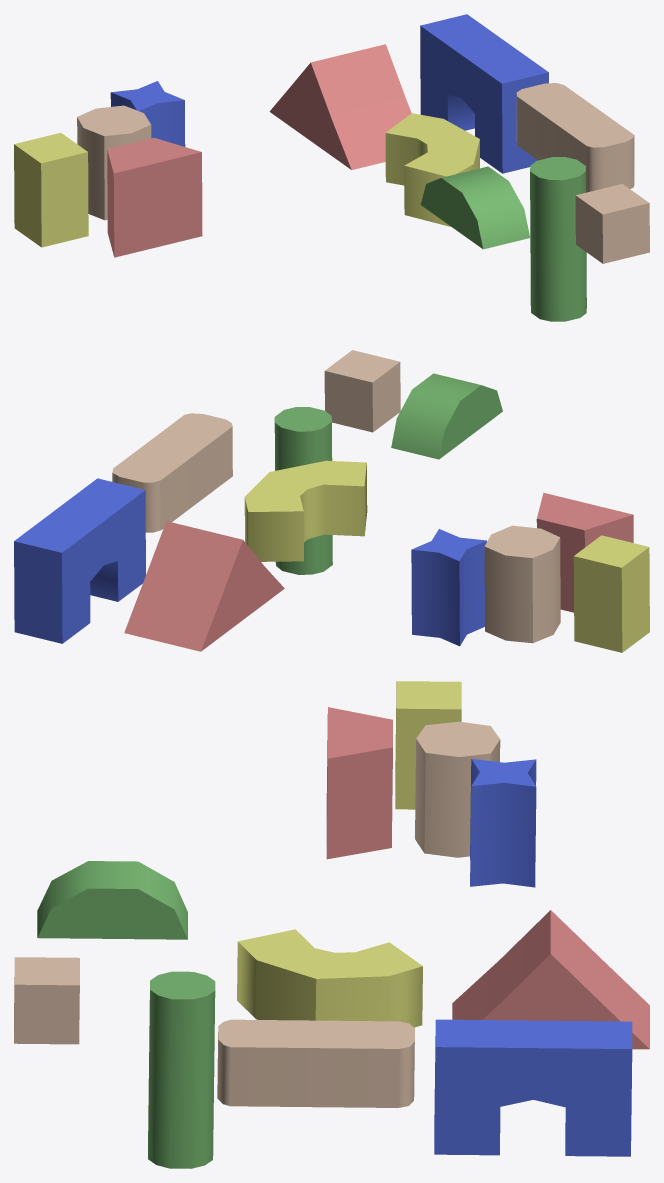
File: buildingblocks.fbx
The picture shows the model from 3 angles, top to bottom: view 1: azimuth 30°, elevation 25°; view 2: azimuth 150°, elevation 25°; view 3: azimuth 270°, elevation 25°; orthographic projection. The views are drawn at different scales.
Parts seen in each view (by area): view 1: blue_arch, triangle, trapezoid, green_pillar, tan_block, retangular_prisim, yellow_arch, green_semicircel, tan_cube, cylinder, starPrisim; view 2: blue_arch, triangle, yellow_arch, tan_block, cylinder, retangular_prisim, starPrisim, green_semicircel, tan_cube, green_pillar, trapezoid; view 3: blue_arch, tan_block, yellow_arch, triangle, green_pillar, green_semicircel, trapezoid, starPrisim, cylinder, tan_cube, retangular_prisim.
Boxes of the visible parts, bbox=[...] form: blue_arch: bbox=[420, 14, 548, 173]; triangle: bbox=[269, 44, 411, 169]; trapezoid: bbox=[107, 138, 202, 257]; green_pillar: bbox=[530, 157, 586, 321]; tan_block: bbox=[516, 83, 634, 192]; retangular_prisim: bbox=[14, 132, 88, 247]; yellow_arch: bbox=[385, 113, 479, 226]; green_semicircel: bbox=[420, 166, 529, 249]; tan_cube: bbox=[575, 184, 649, 263]; cylinder: bbox=[77, 105, 151, 220]; starPrisim: bbox=[110, 81, 185, 146]; blue_arch: bbox=[14, 478, 145, 643]; triangle: bbox=[124, 521, 284, 651]; yellow_arch: bbox=[244, 460, 367, 561]; tan_block: bbox=[112, 413, 232, 532]; cylinder: bbox=[484, 525, 560, 643]; retangular_prisim: bbox=[573, 535, 649, 652]; starPrisim: bbox=[411, 529, 486, 646]; green_semicircel: bbox=[391, 373, 502, 459]; tan_cube: bbox=[324, 350, 400, 432]; green_pillar: bbox=[274, 407, 332, 574]; trapezoid: bbox=[536, 492, 633, 612]; blue_arch: bbox=[434, 1019, 632, 1156]; tan_block: bbox=[217, 1019, 414, 1107]; yellow_arch: bbox=[237, 929, 422, 1027]; triangle: bbox=[452, 910, 649, 1049]; green_pillar: bbox=[148, 971, 215, 1168]; green_semicircel: bbox=[37, 861, 187, 939]; trapezoid: bbox=[326, 707, 392, 859]; starPrisim: bbox=[470, 758, 536, 887]; cylinder: bbox=[415, 721, 500, 857]; tan_cube: bbox=[14, 957, 79, 1044]; retangular_prisim: bbox=[395, 681, 461, 809].
Size of the model in its own units: 11.16 by 3.78 by 9.76.
